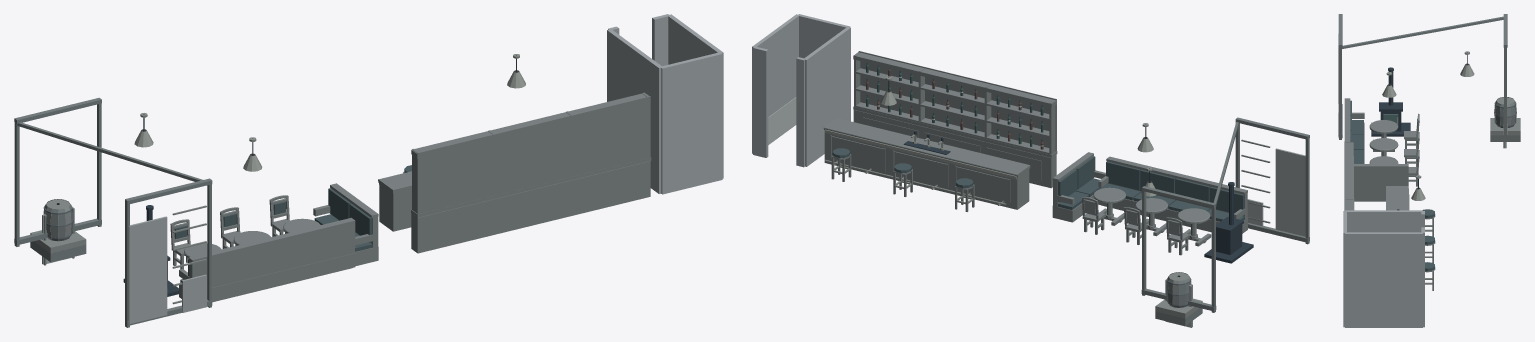
Rendered from source-pub-scenography.glb.
The picture shows the model from 3 angles, left to right: view 1: azimuth 30°, elevation 25°; view 2: azimuth 150°, elevation 25°; view 3: azimuth 270°, elevation 25°; orthographic projection. The views are drawn at different scales.
Parts seen in each view (by area): view 1: source_pub_cold_fittings, source_pub_unfinished_bay, source_pub_cask, source_pub_deck, source_pub_joist; view 2: source_pub_cold_fittings, source_pub_unfinished_bay, source_pub_cask, source_pub_deck; view 3: source_pub_cold_fittings, source_pub_unfinished_bay, source_pub_cask, source_pub_deck, source_pub_joist.
Boxes of the visible parts, <box> form: source_pub_cold_fittings: <box>123,14,723,302</box>; source_pub_unfinished_bay: <box>14,97,212,327</box>; source_pub_cask: <box>43,199,73,241</box>; source_pub_deck: <box>30,230,86,253</box>; source_pub_joist: <box>30,241,86,262</box>; source_pub_cold_fittings: <box>752,14,1253,263</box>; source_pub_unfinished_bay: <box>1141,117,1309,312</box>; source_pub_cask: <box>1166,272,1191,307</box>; source_pub_deck: <box>1155,298,1202,318</box>; source_pub_cold_fittings: <box>1343,51,1474,327</box>; source_pub_unfinished_bay: <box>1338,14,1507,139</box>; source_pub_cask: <box>1494,97,1516,127</box>; source_pub_deck: <box>1490,118,1520,135</box>; source_pub_joist: <box>1490,135,1520,141</box>.
Bounding box in the file's own units: 16.96 × 4.1 × 5.98.
